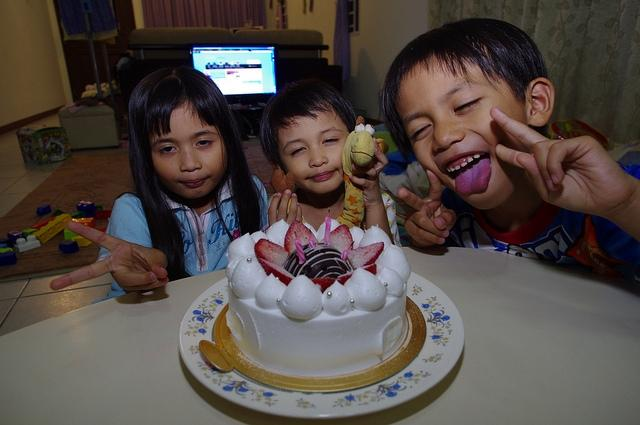strawberry: (284, 220, 318, 255), (346, 241, 384, 270), (254, 238, 290, 268), (258, 258, 296, 286), (321, 225, 353, 254), (338, 264, 377, 286), (310, 276, 342, 294)
